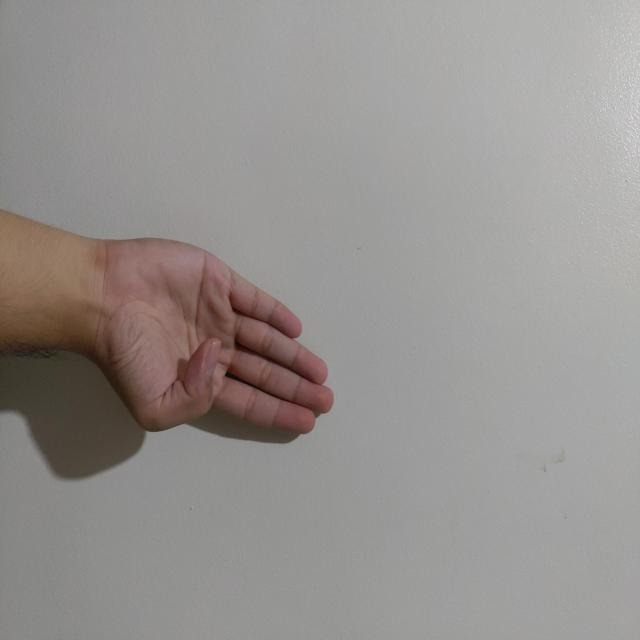B: (237, 305, 436, 542)
